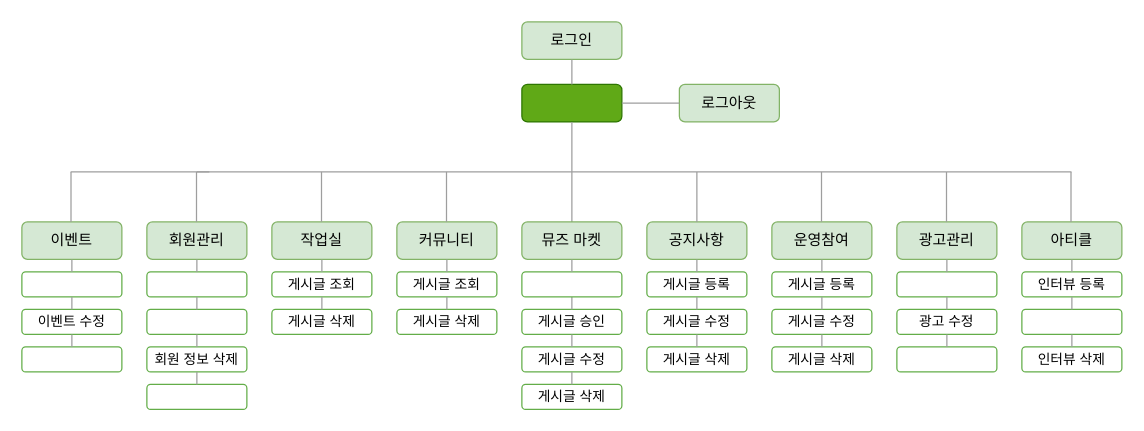
Image size: 1144x431. Some labels were removed from this diagram. Here are the shapes that lost their labels. From the top down, the centre of each, then its label:
(x=571, y=102): 메인페이지
(x=71, y=284): 이벤트 등록
(x=196, y=284): 회원 정보 조회
(x=571, y=284): 정산
(x=946, y=284): 광고 등록
(x=196, y=321): 회원 정보 수정
(x=1071, y=321): 인터뷰 수정
(x=71, y=359): 이벤트 삭제
(x=946, y=359): 광고 삭제
(x=196, y=396): 블랙리스트
